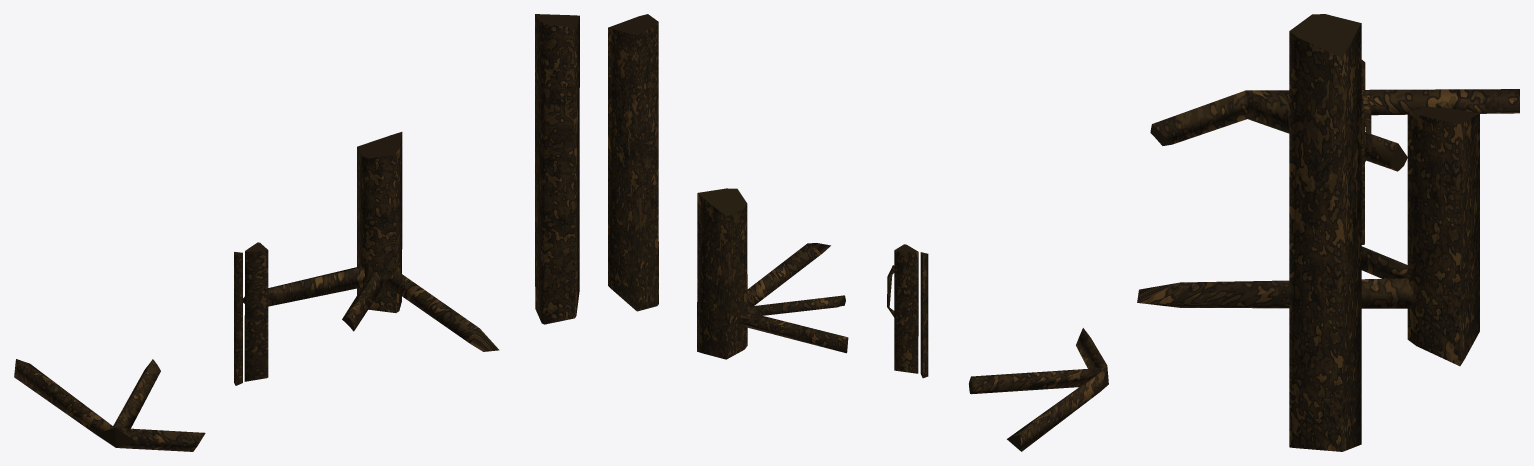
File: oilRig_pieces_dream.fbx
3 views of the same model, side by side, from view 1: azimuth 30°, elevation 25°; view 2: azimuth 150°, elevation 25°; view 3: azimuth 270°, elevation 25° (orthographic). The views are drawn at different scales.
Visible parts, largest first — view 1: oilrigpier_low01.007, oilrigpier_low01.002, oilrigpier_low01.005, oilrigpier_low01.003; view 2: oilrigpier_low01.007, oilrigpier_low01.002, oilrigpier_low01.005, oilrigpier_low01.003; view 3: oilrigpier_low01.007, oilrigpier_low01.002, oilrigpier_low01.005, oilrigpier_low01.003.
Part boxes in pixels (left/top/right/bottom): oilrigpier_low01.007: left=535, top=14, right=579, bottom=324; oilrigpier_low01.002: left=243, top=132, right=499, bottom=351; oilrigpier_low01.005: left=14, top=359, right=205, bottom=451; oilrigpier_low01.003: left=234, top=242, right=268, bottom=385; oilrigpier_low01.007: left=608, top=14, right=658, bottom=311; oilrigpier_low01.002: left=697, top=188, right=848, bottom=359; oilrigpier_low01.005: left=969, top=328, right=1108, bottom=451; oilrigpier_low01.003: left=887, top=244, right=928, bottom=378; oilrigpier_low01.007: left=1289, top=14, right=1361, bottom=451; oilrigpier_low01.002: left=1137, top=107, right=1479, bottom=366; oilrigpier_low01.005: left=1150, top=89, right=1519, bottom=171; oilrigpier_low01.003: left=1361, top=60, right=1371, bottom=244.
Bounding box in the file's own units: 34.65 × 19.71 × 15.91.
